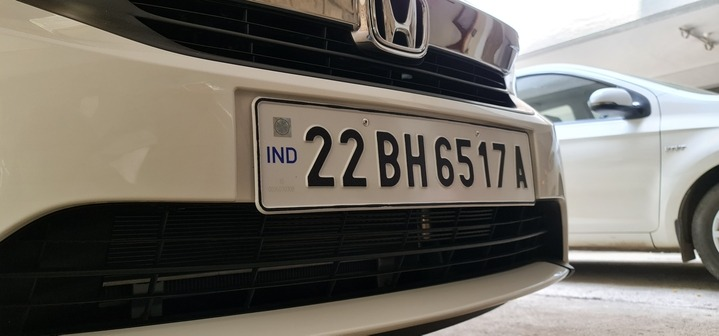number_plate: (256, 99, 538, 205)
